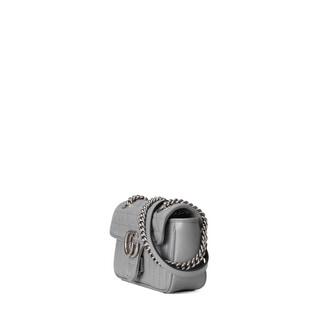Gucci: (105, 191, 223, 302), (118, 226, 147, 264)
